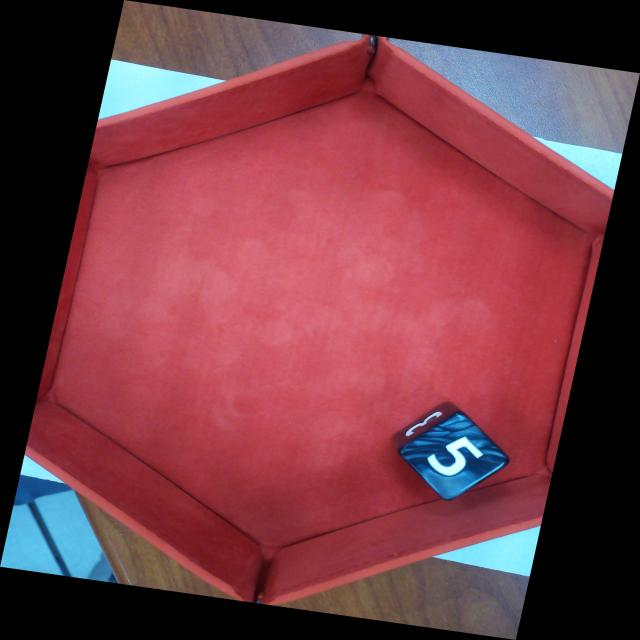dice: (397, 410, 510, 502)
